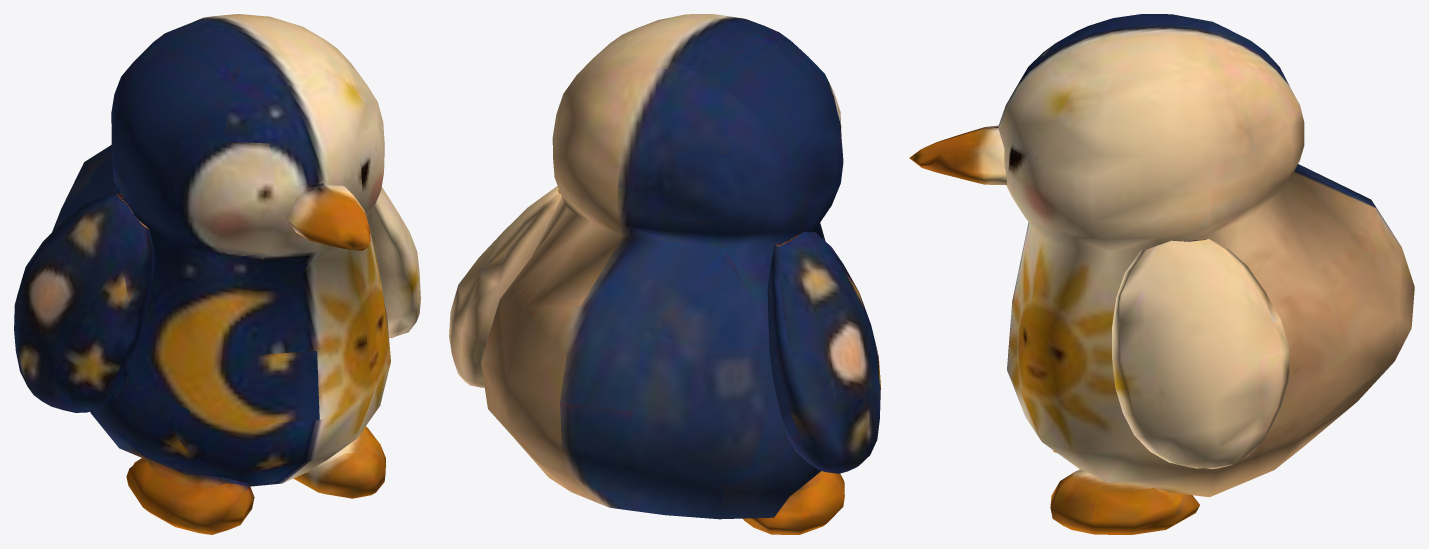
Rendered from penguin-01-33-moon-and-sun.gltf.
The picture shows the model from 3 angles, left to right: view 1: azimuth 30°, elevation 25°; view 2: azimuth 150°, elevation 25°; view 3: azimuth 270°, elevation 25°; orthographic projection. The views are drawn at different scales.
Visible parts, largest first — view 1: penguin-01-33-moon-and-sun; view 2: penguin-01-33-moon-and-sun; view 3: penguin-01-33-moon-and-sun.
Part boxes in pixels (left/top/right/bottom): penguin-01-33-moon-and-sun: left=14, top=14, right=420, bottom=534; penguin-01-33-moon-and-sun: left=449, top=14, right=880, bottom=534; penguin-01-33-moon-and-sun: left=909, top=14, right=1414, bottom=534.
Bounding box in the file's own units: 0.2 × 0.2267 × 0.2267.
1 material, 1 textured.
